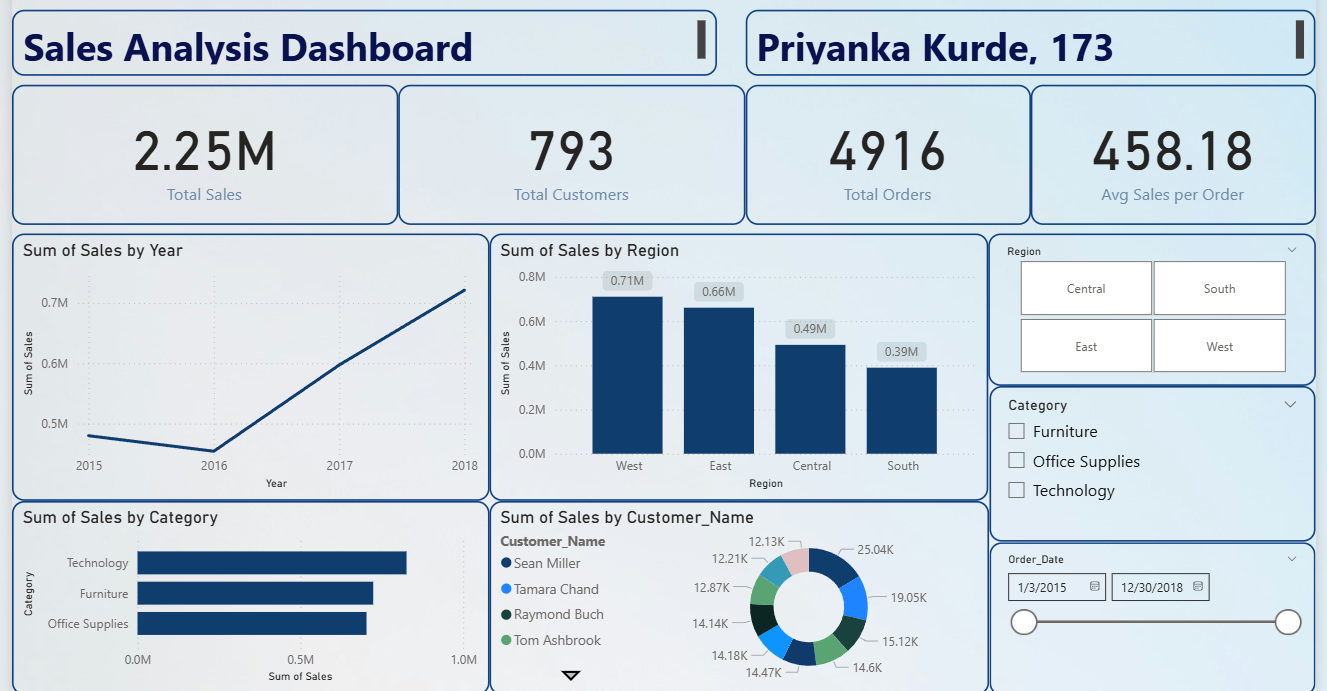

What the dashboard file says about the page in this screenshot:
{"tool":"powerbi","page":{"name":"Page 1","canvas":[1280,720],"ordinal":0},"visuals":[{"type":"card","fields":{"Values":["SuperSales.Total Sales"]},"box":[0,121.5,379.1,137.4],"z":0},{"type":"card","fields":{"Values":["SuperSales.Total Orders"]},"box":[720.2,121.5,279.8,137.4],"z":1000},{"type":"card","fields":{"Values":["SuperSales.Total Customers"]},"box":[379.1,121.5,341.1,137.4],"z":2000},{"type":"card","fields":{"Values":["SuperSales.Avg Sales per Order"]},"box":[1000,121.5,279.8,137.4],"z":3000},{"type":"lineChart","fields":{"Category":["SuperSales.Order_Date.Variation.Date Hierarchy.Year","SuperSales.Order_Date.Variation.Date Hierarchy.Quarter","SuperSales.Order_Date.Variation.Date Hierarchy.Month","SuperSales.Order_Date.Variation.Date Hierarchy.Day"],"Y":["Sum(SuperSales.Sales)"]},"box":[0,267.5,468.7,262.6],"z":4000},{"type":"clusteredBarChart","fields":{"Category":["SuperSales.Category"],"Y":["Sum(SuperSales.Sales)"]},"box":[0,530,468.6,190],"z":5000},{"type":"columnChart","fields":{"Category":["SuperSales.Region"],"Y":["Sum(SuperSales.Sales)"]},"box":[468.7,267.5,489.6,262.6],"z":6000},{"type":"donutChart","fields":{"Category":["SuperSales.Customer_Name"],"Y":["Sum(SuperSales.Sales)"]},"box":[468.6,530,490,190],"z":7000},{"type":"slicer","fields":{"Values":["SuperSales.Region"]},"box":[958.3,267.5,321.5,149.7],"z":8000},{"type":"slicer","fields":{"Values":["SuperSales.Category"]},"box":[960,417.1,320,152.9],"z":9000},{"type":"slicer","fields":{"Values":["SuperSales.Order_Date"]},"box":[960,570,320,150],"z":10000},{"type":"textbox","box":[0,47.9,692,65],"z":11000},{"type":"textbox","box":[720.2,47.9,559.5,65],"z":12000}]}

Visuals, with their boxes in screenshot pixels (x1, y1, x2, y2):
card - SuperSales.Total Sales: rect(7, 82, 393, 222)
card - SuperSales.Total Orders: rect(740, 82, 1024, 222)
card - SuperSales.Total Customers: rect(393, 82, 740, 222)
card - SuperSales.Avg Sales per Order: rect(1024, 82, 1309, 222)
lineChart - SuperSales.Order_Date.Variation.Date Hierarchy.Year x SuperSales.Order_Date.Variation.Date Hierarchy.Quarter: rect(7, 231, 484, 498)
clusteredBarChart - SuperSales.Category x Sum(SuperSales.Sales): rect(7, 498, 484, 690)
columnChart - SuperSales.Region x Sum(SuperSales.Sales): rect(484, 231, 982, 498)
donutChart - SuperSales.Customer_Name x Sum(SuperSales.Sales): rect(484, 498, 982, 690)
slicer - SuperSales.Region: rect(982, 231, 1309, 383)
slicer - SuperSales.Category: rect(984, 383, 1309, 539)
slicer - SuperSales.Order_Date: rect(984, 539, 1309, 690)
textbox: rect(7, 7, 711, 73)
textbox: rect(740, 7, 1309, 73)
